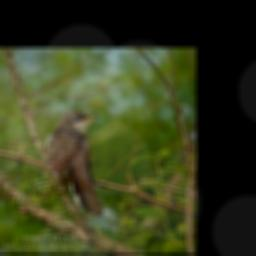Cuckoo: (45, 111, 104, 216)
